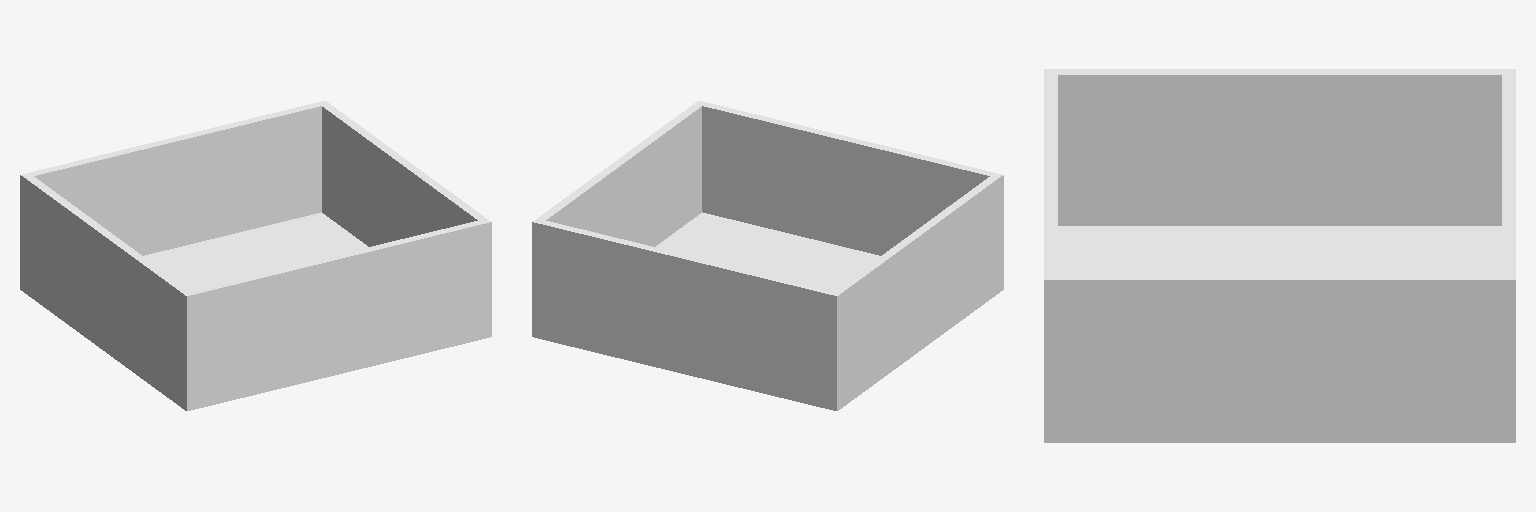
robot.urdf — custom_bin:
<?xml version='1.0' encoding='UTF-8'?>
<robot name="custom_bin">
  <link name="base_link">
    <inertial>
      <origin xyz="0.0000E+00 0.0000E+00 1.6071E-01" rpy="0.0000E+00 0.0000E+00 0.0000E+00"/>
      <mass value="1.0000E+00"/>
      <inertia ixx="1.4624E-01" ixy="-0.0000E+00" ixz="9.2519E-19" iyy="1.5938E-01" iyz="-0.0000E+00" izz="2.7485E-01"/>
    </inertial>
    <visual>
      <origin xyz="0.0000E+00 0.0000E+00 0.0000E+00" rpy="0.0000E+00 0.0000E+00 0.0000E+00"/>
      <geometry>
        <mesh filename="8ff28cc8b1a83b7e8b9946f20127bb2c.stl" scale="1.0000E+00 1.0000E+00 1.0000E+00"/>
      </geometry>
      <material name="undefined">
        <color rgba="1.0000E+00 1.0000E+00 1.0000E+00 1.0000E+00"/>
      </material>
    </visual>
    <collision>
      <origin xyz="0.0000E+00 0.0000E+00 -2.5000E-02" rpy="0.0000E+00 0.0000E+00 0.0000E+00"/>
      <geometry>
        <box size="1.8000E+00 1.7000E+00 5.0000E-02"/>
      </geometry>
    </collision>
    <collision>
      <origin xyz="8.7500E-01 0.0000E+00 2.7500E-01" rpy="0.0000E+00 0.0000E+00 0.0000E+00"/>
      <geometry>
        <box size="5.0000E-02 1.7000E+00 6.5000E-01"/>
      </geometry>
    </collision>
    <collision>
      <origin xyz="-8.7500E-01 0.0000E+00 2.7500E-01" rpy="0.0000E+00 0.0000E+00 0.0000E+00"/>
      <geometry>
        <box size="5.0000E-02 1.7000E+00 6.5000E-01"/>
      </geometry>
    </collision>
    <collision>
      <origin xyz="0.0000E+00 8.2500E-01 2.7500E-01" rpy="0.0000E+00 0.0000E+00 0.0000E+00"/>
      <geometry>
        <box size="1.8000E+00 5.0000E-02 6.5000E-01"/>
      </geometry>
    </collision>
    <collision>
      <origin xyz="0.0000E+00 -8.2500E-01 2.7500E-01" rpy="0.0000E+00 0.0000E+00 0.0000E+00"/>
      <geometry>
        <box size="1.8000E+00 5.0000E-02 6.5000E-01"/>
      </geometry>
    </collision>
    <contact>
      <lateral_friction value="7.0000E-01"/>
      <rolling_friction value="1.0000E-03"/>
      <spinning_friction value="1.0000E-02"/>
      <restitution value="0.0000E+00"/>
    </contact>
  </link>
</robot>

--- What the picture shows (computed from the rendered views, not written in the file) ---
The picture shows the robot from 3 angles, left to right: view 1: azimuth 30°, elevation 25°; view 2: azimuth 150°, elevation 25°; view 3: azimuth 270°, elevation 25°; orthographic projection.
Robot: custom_bin — 1 links, 0 joints (none); root link base_link; default pose: all joints at 0.
Visible links, largest first — view 1: base_link; view 2: base_link; view 3: base_link.
Boxes of the visible links, x1,y1,x2,y2 form: base_link: (20, 101, 491, 410); base_link: (532, 101, 1003, 410); base_link: (1044, 69, 1515, 442).
Size in the robot's own frame: 1.8 by 1.7 by 0.65 metres.
Meshes: 1 distinct files referenced, 1 mesh visuals loaded (1 binary STL).